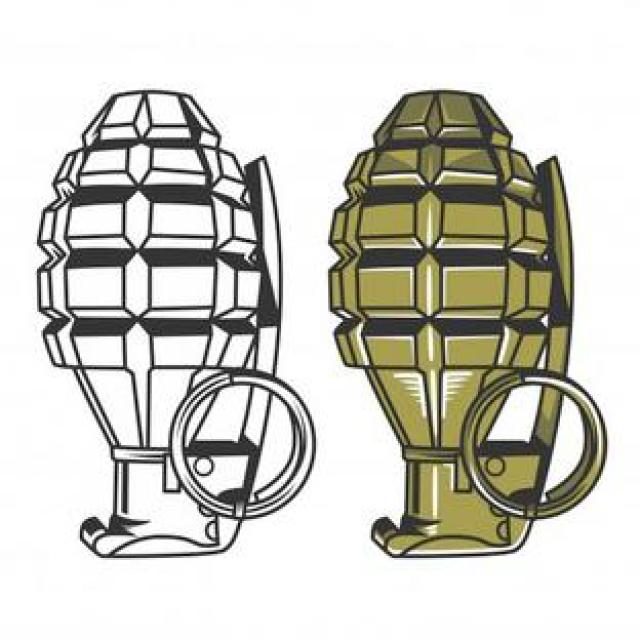grenade: (327, 88, 609, 559), (38, 91, 320, 561)
